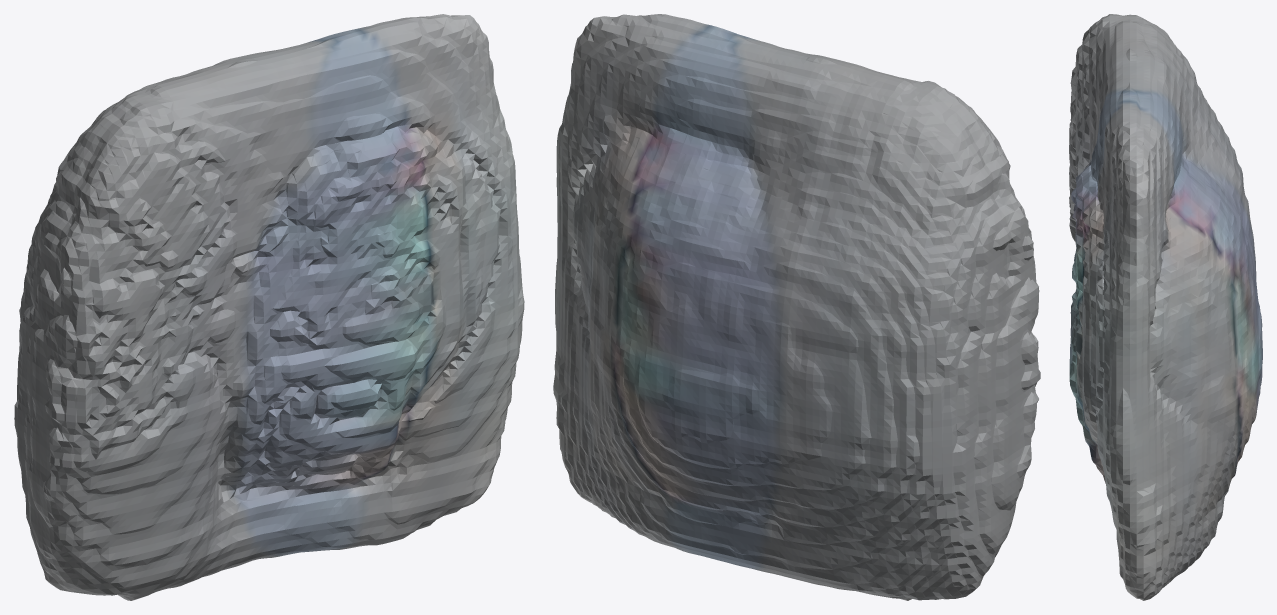
File: metasoul_74.glb
3 renders of one model, left to right at view 1: azimuth 30°, elevation 25°; view 2: azimuth 150°, elevation 25°; view 3: azimuth 270°, elevation 25°, orthographic. The views are drawn at different scales.
Visible parts, largest first — view 1: world; view 2: world; view 3: world.
Boxes of the visible parts, x1,y1,x2,y2 form: world: (14,14,524,600); world: (553,14,1040,600); world: (1069,14,1262,600).
Bounding box in the file's own units: 0.9969 × 1.04 × 0.3912.
